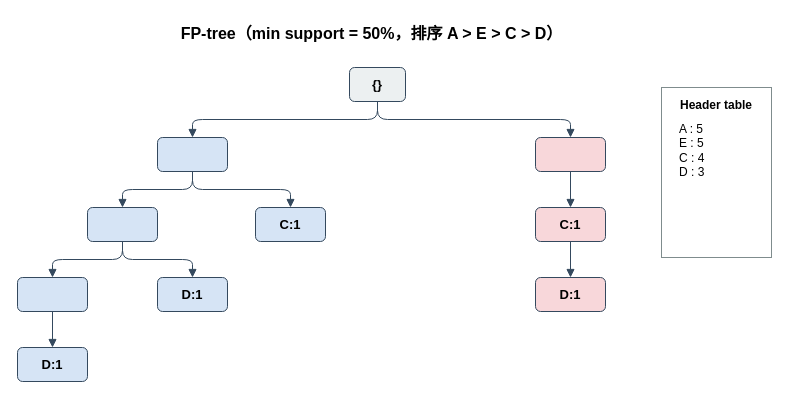
This 789x399 diagram has some shape labels left out. Here are the shapes that lost their labels. From the top down, the centre of each, then its label:
[192,154]: A:5
[570,154]: E:1
[122,224]: E:4
[52,294]: C:2
